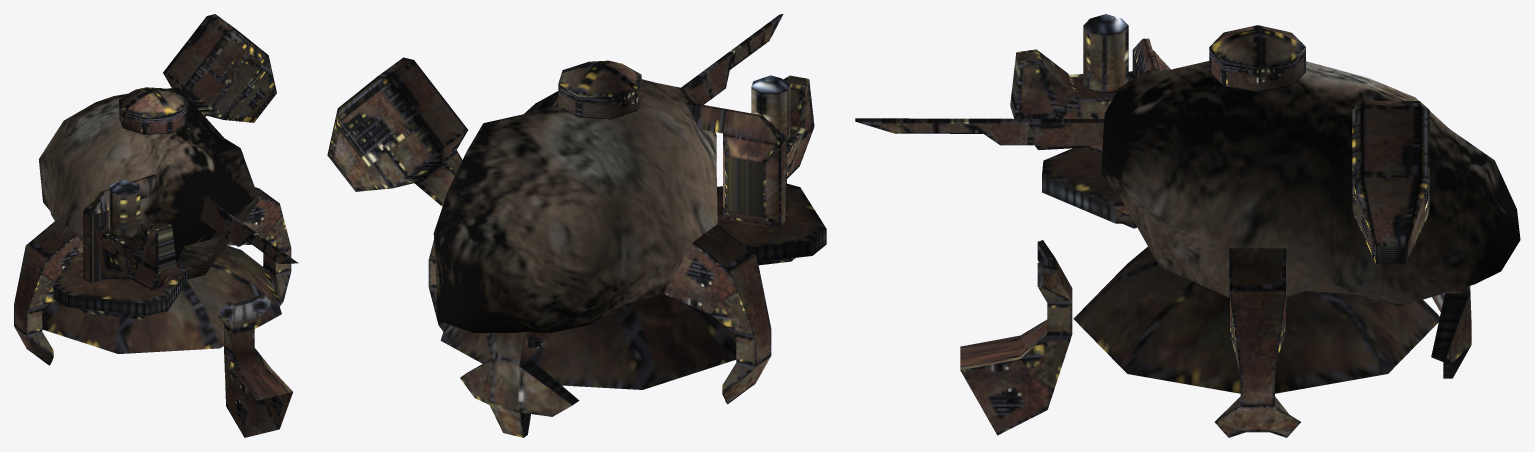
The model's file is ss306_static.obj.
3 views of the same model, side by side, from view 1: azimuth 30°, elevation 25°; view 2: azimuth 150°, elevation 25°; view 3: azimuth 270°, elevation 25° (orthographic). The views are drawn at different scales.
Parts seen in each view (by area): view 1: frm-sphere6, frm-sphere7, frm-cube34, frm-cube37, frm-cube12, frm-cube11, frm-cube33, frm-sphere8, frm-cube36, frm-cube15, frm-extru48, frm-cyl1; view 2: frm-sphere6, frm-sphere7, frm-cube34, frm-cube12, frm-cube15, frm-cube14, frm-cube11, frm-sphere8, frm-extru48, frm-cube33, frm-cyl1, frm-cube36; view 3: frm-sphere6, frm-sphere7, frm-cube34, frm-cube37, frm-cube36, frm-sphere8, frm-cube33, frm-extru48, frm-cube11, frm-cyl1, frm-cube14, frm-cube15.
Boxes of the visible parts, left/top/right/bottom form: frm-sphere6: left=39, top=88, right=259, bottom=279; frm-sphere7: left=42, top=245, right=281, bottom=353; frm-cube34: left=163, top=14, right=276, bottom=122; frm-cube37: left=217, top=293, right=292, bottom=437; frm-cube12: left=14, top=219, right=82, bottom=365; frm-cube11: left=53, top=253, right=187, bottom=319; frm-cube33: left=95, top=220, right=176, bottom=290; frm-sphere8: left=119, top=87, right=186, bottom=134; frm-cube36: left=217, top=187, right=291, bottom=306; frm-cube15: left=82, top=174, right=157, bottom=282; frm-extru48: left=200, top=197, right=298, bottom=264; frm-cyl1: left=108, top=180, right=140, bottom=237; frm-sphere6: left=433, top=79, right=717, bottom=332; frm-sphere7: left=440, top=294, right=736, bottom=389; frm-cube34: left=327, top=57, right=467, bottom=206; frm-cube12: left=664, top=224, right=771, bottom=404; frm-cube15: left=685, top=102, right=786, bottom=227; frm-cube14: left=460, top=332, right=579, bottom=437; frm-cube11: left=717, top=183, right=826, bottom=265; frm-sphere8: left=558, top=60, right=641, bottom=119; frm-extru48: left=681, top=14, right=783, bottom=104; frm-cube33: left=783, top=75, right=814, bottom=178; frm-cyl1: left=751, top=75, right=790, bottom=142; frm-cube36: left=428, top=240, right=445, bottom=331; frm-sphere6: left=1101, top=61, right=1520, bottom=306; frm-sphere7: left=1073, top=246, right=1439, bottom=393; frm-cube34: left=1352, top=101, right=1429, bottom=263; frm-cube37: left=960, top=240, right=1072, bottom=435; frm-cube36: left=1214, top=248, right=1300, bottom=437; frm-sphere8: left=1209, top=25, right=1305, bottom=92; frm-cube33: left=1010, top=49, right=1135, bottom=152; frm-extru48: left=855, top=118, right=1104, bottom=145; frm-cube11: left=1042, top=147, right=1137, bottom=228; frm-cyl1: left=1083, top=14, right=1128, bottom=93; frm-cube14: left=1431, top=286, right=1471, bottom=378; frm-cube15: left=1132, top=38, right=1170, bottom=77.
Size of the model in its own units: 37.58 by 33.38 by 51.79.
